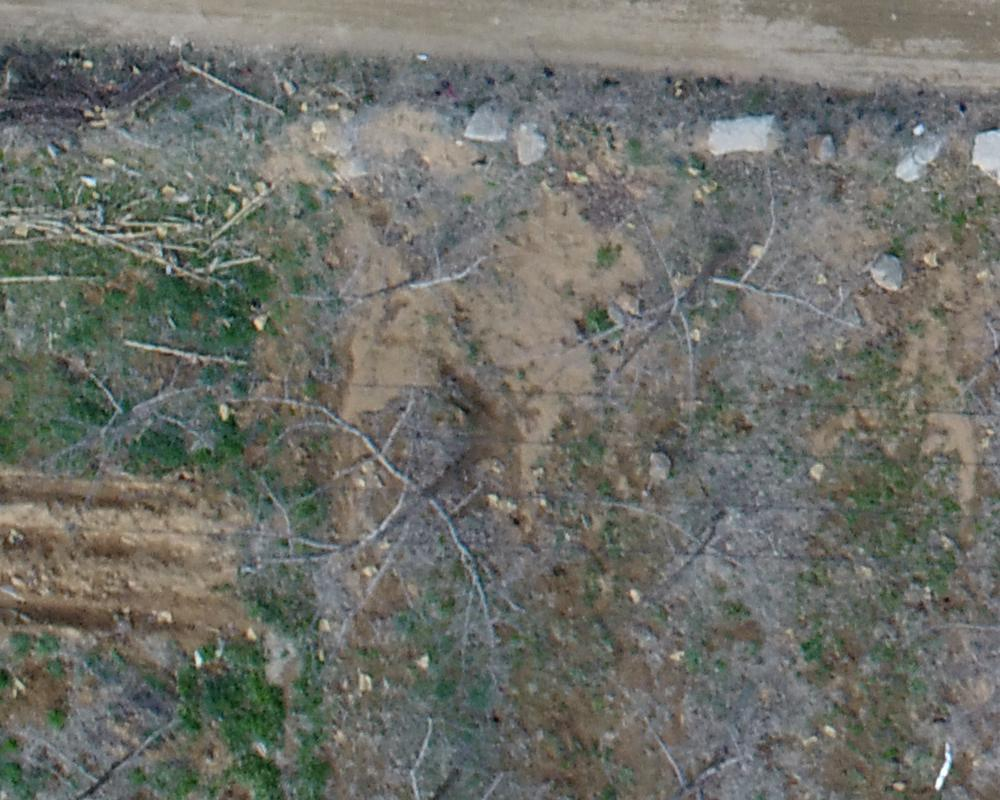apple: (223, 394, 512, 635), (591, 172, 857, 384), (28, 355, 222, 495), (284, 223, 501, 344), (589, 487, 794, 614), (578, 723, 772, 790)
